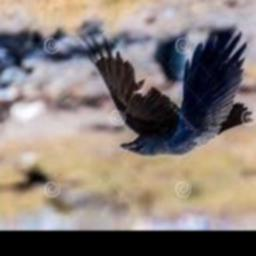Crow: (84, 26, 253, 158)
